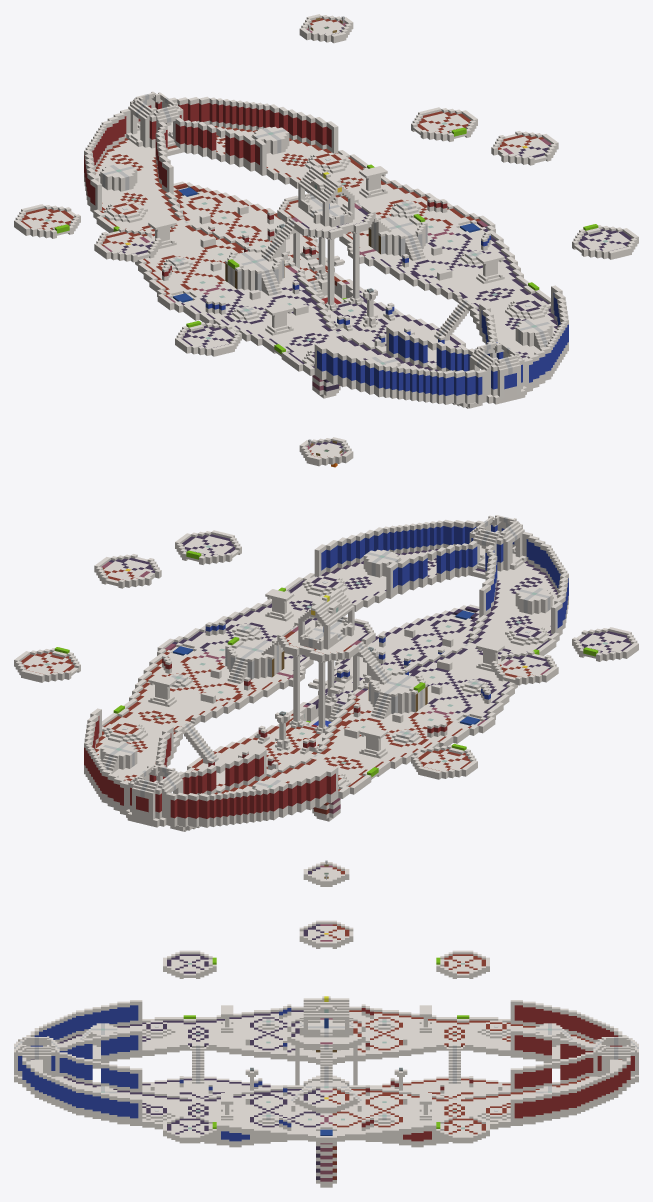
The model's file is minecraft.obj.
The picture shows the model from 3 angles, top to bottom: view 1: azimuth 30°, elevation 25°; view 2: azimuth 150°, elevation 25°; view 3: azimuth 270°, elevation 25°; orthographic projection. The views are drawn at different scales.
Bounding box in the file's own units: 107 × 84.5 × 151.
